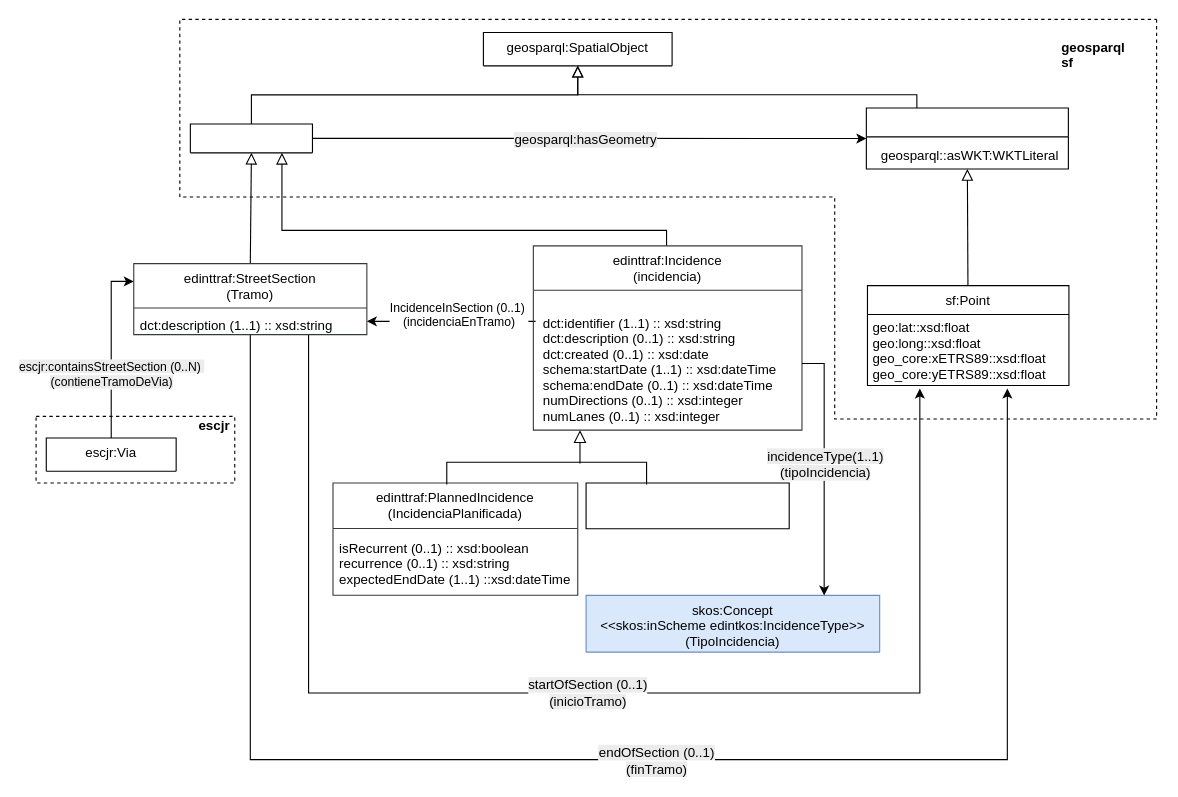
The diagram is 1178 pixels wide and 797 high, and some of its shapes have lost their labels. Here are the shapes that lost their labels. From the top down, the centre of each, then its label:
At [250,138]: "geosparql:Feature".
At [966,138]: "geosparql:Geometry".
At [687,505]: "edinttraf:UnplannedIncidence (IncidenciaNoPlanificada)".
